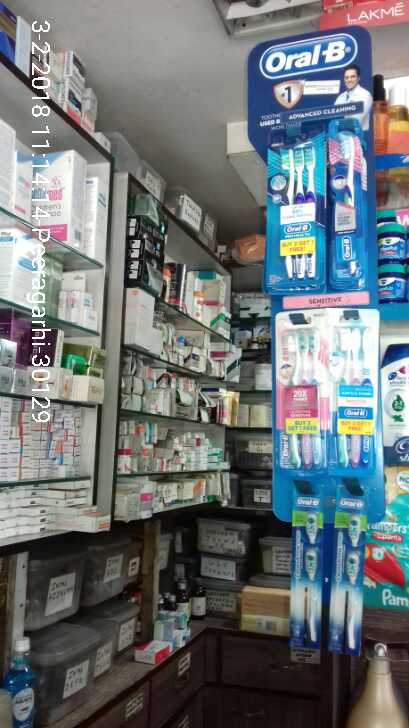oralb: (259, 142, 321, 281), (276, 311, 323, 473), (327, 313, 377, 465), (326, 136, 372, 286), (332, 514, 369, 648), (298, 503, 321, 639)
